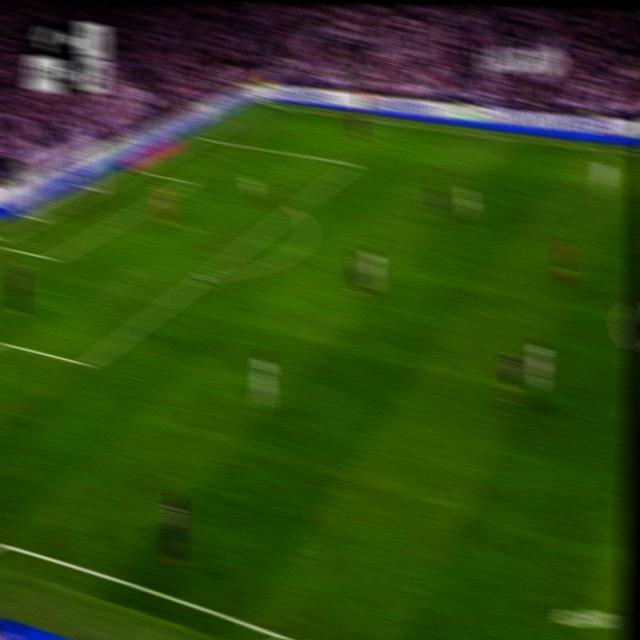bigarea_bottom_inner: (79, 351, 97, 376)
bigarea_top_inner: (347, 156, 360, 171)
bigarea_top_outter: (197, 131, 210, 143)
bottom_arc_area_intersection: (196, 267, 213, 287)
corner: (258, 99, 275, 110)
smallarea_top_inner: (183, 176, 194, 186)
top_arc_area_intersection: (287, 200, 302, 217)
